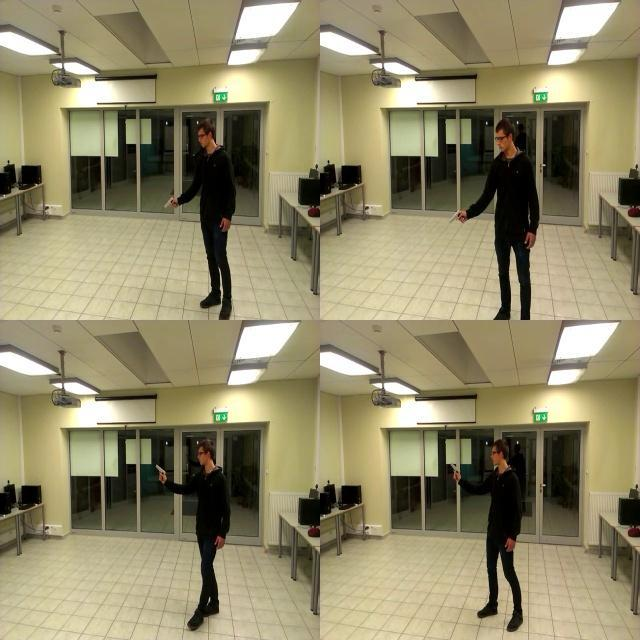gun-knife-thesis - v11 Yolov5 augmented: (444, 206, 465, 226), (151, 458, 167, 480), (161, 189, 178, 209), (449, 458, 459, 480)
